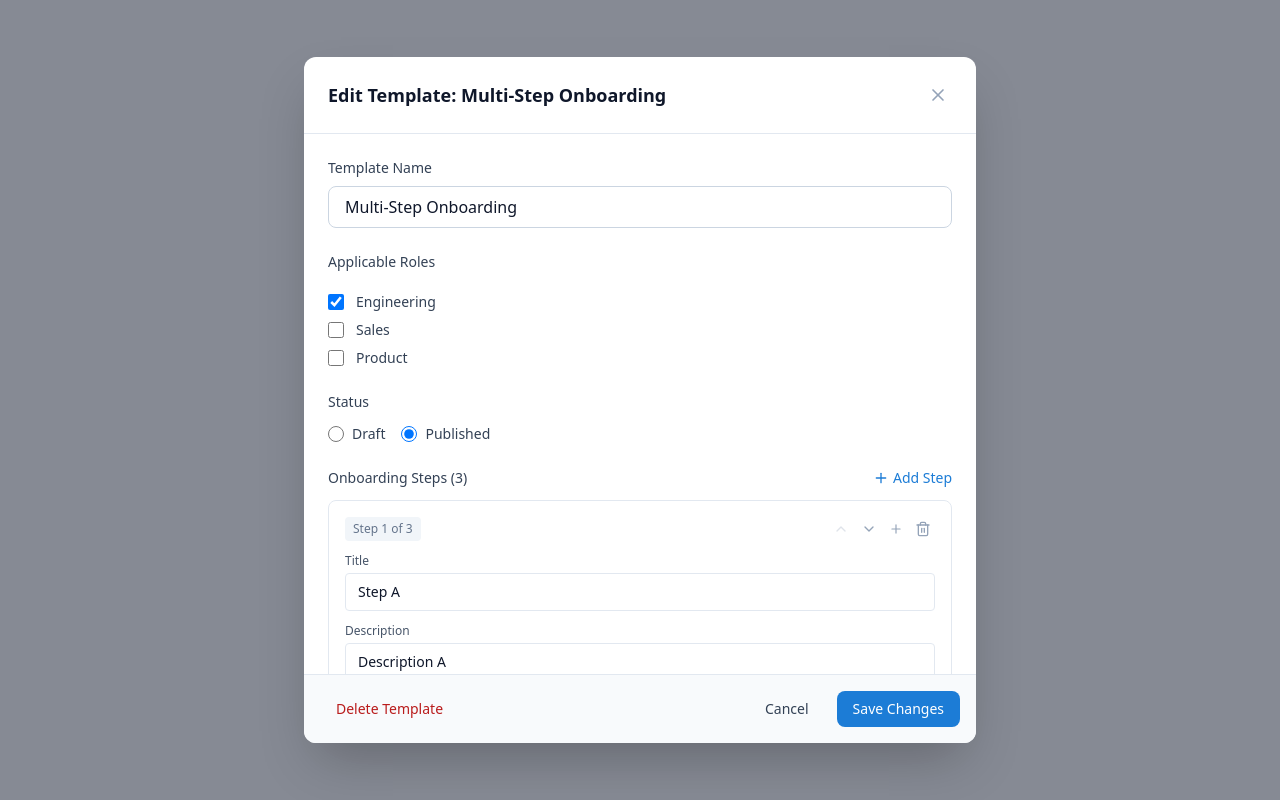
it: TemplateModal › TemplateModal - step reorder › should update step numbers after reorder
Expected: the field showing "Step A" is shown, x1=345 y1=573 x2=935 y2=611
Click the button named "Move step 1 down". click: [869, 529]
box: x1=857 y1=517 x2=881 y2=541
(page scrolled)
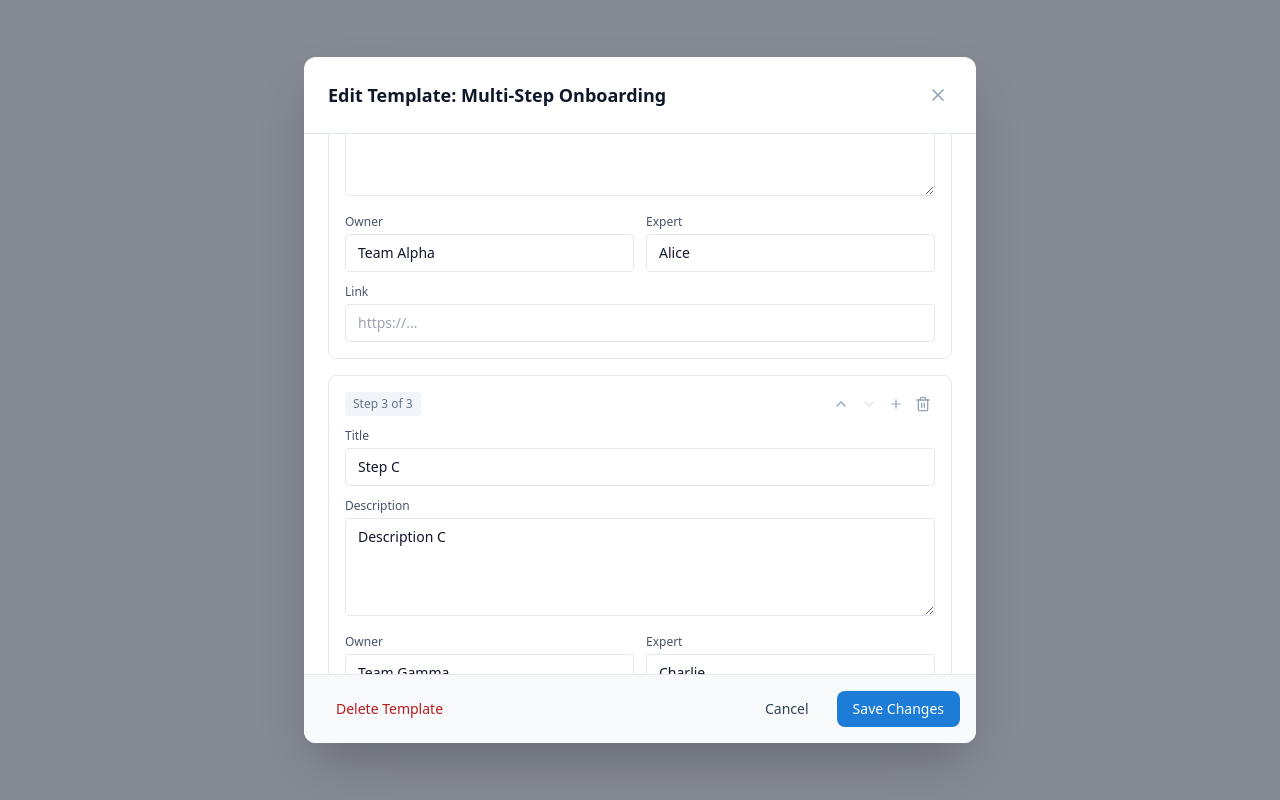
Now the text "Step 3 of 3" is shown, box x1=345 y1=392 x2=421 y2=416
